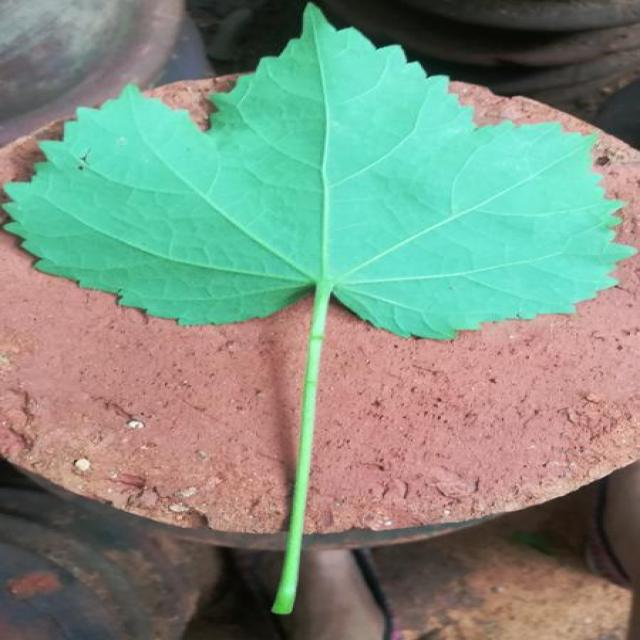kasamburga: (5, 5, 632, 612)
